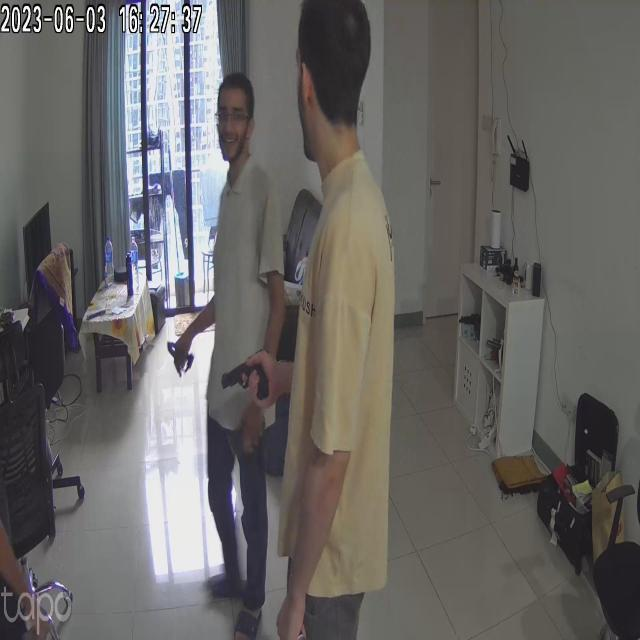Gun: (217, 335, 275, 421)
